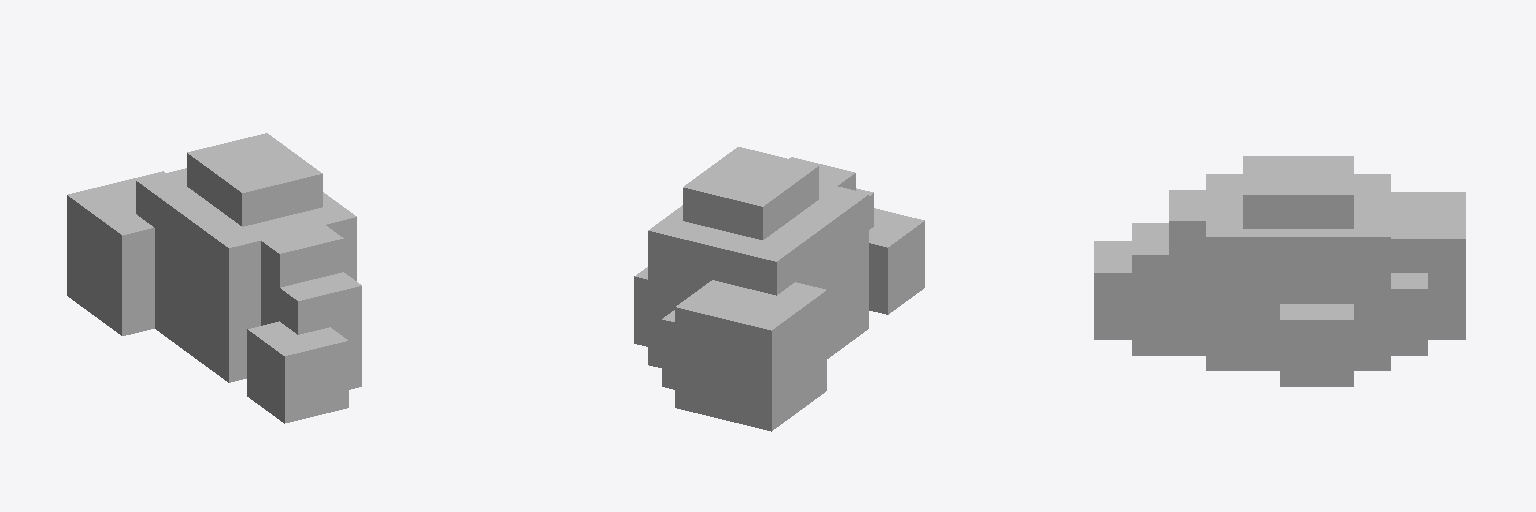
The model's file is Busch.obj.
The picture shows the model from 3 angles: view 1: azimuth 30°, elevation 25°; view 2: azimuth 150°, elevation 25°; view 3: azimuth 270°, elevation 25°; orthographic projection.
Parts seen in each view (by area): view 1: object 1; view 2: object 1; view 3: object 1.
Part boxes in pixels (x1,y1,x2,y2): object 1: (67,133,361,423); object 1: (634,147,924,431); object 1: (1094,156,1465,386).
Size of the model in its own units: 1.2 by 1 by 2.